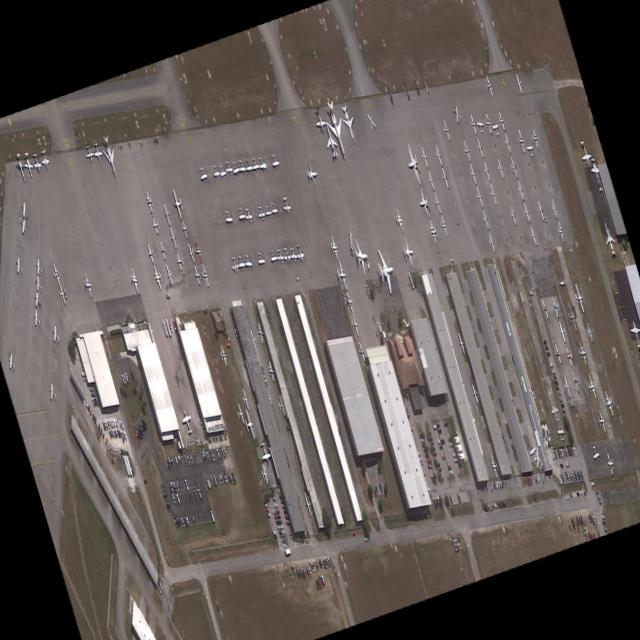large-vehicle: (164, 317, 171, 335), (407, 271, 414, 287), (162, 320, 168, 335), (349, 230, 353, 250), (284, 547, 291, 554)
plane: (320, 97, 352, 161), (374, 246, 400, 296), (401, 141, 424, 186), (98, 133, 121, 177), (339, 102, 360, 145), (351, 236, 372, 275), (320, 120, 341, 157), (600, 219, 619, 257), (414, 185, 432, 220), (400, 235, 417, 268), (241, 407, 257, 440), (577, 137, 594, 168), (170, 186, 185, 218), (13, 151, 28, 183), (571, 281, 586, 312), (334, 258, 349, 289), (565, 301, 579, 333), (20, 151, 36, 178), (305, 161, 321, 188), (588, 156, 603, 184), (258, 439, 273, 467), (179, 406, 194, 434), (627, 319, 640, 349), (313, 109, 328, 134), (603, 388, 616, 416), (585, 373, 598, 399), (576, 339, 589, 365), (128, 267, 141, 292), (327, 234, 340, 259), (82, 271, 94, 298), (427, 218, 439, 244), (595, 408, 607, 433), (152, 264, 164, 289), (393, 208, 405, 233), (91, 140, 104, 163), (534, 442, 543, 475), (604, 451, 616, 475), (483, 72, 494, 98), (515, 129, 527, 152), (431, 189, 442, 214), (529, 126, 540, 150), (199, 263, 210, 287), (303, 491, 314, 515), (50, 260, 61, 284), (144, 189, 155, 213), (31, 151, 43, 173), (38, 149, 51, 169), (83, 143, 96, 163), (482, 110, 493, 133), (259, 462, 270, 485), (255, 320, 266, 343), (461, 138, 472, 161), (473, 184, 484, 207), (489, 454, 500, 477), (248, 328, 259, 351), (294, 242, 306, 263), (239, 387, 250, 409), (266, 359, 277, 381), (528, 442, 539, 464), (440, 119, 451, 141), (487, 182, 498, 204), (557, 320, 568, 342), (456, 331, 467, 353), (280, 194, 292, 214), (218, 343, 228, 367), (549, 402, 561, 422), (192, 240, 203, 261), (509, 155, 519, 178), (186, 240, 196, 263), (165, 262, 175, 285), (440, 166, 450, 189), (350, 312, 360, 335), (229, 255, 241, 274), (367, 109, 376, 134), (555, 220, 565, 242), (528, 224, 538, 246), (162, 202, 172, 224), (192, 264, 203, 284), (235, 402, 245, 424), (57, 282, 67, 304), (146, 242, 156, 264), (419, 145, 429, 167), (433, 143, 443, 165), (468, 162, 478, 184), (438, 215, 448, 237), (562, 375, 572, 397), (564, 344, 574, 366), (571, 369, 581, 391), (344, 291, 355, 311), (552, 342, 562, 363), (502, 132, 512, 153), (496, 108, 506, 129), (584, 321, 594, 342), (180, 217, 190, 238), (168, 226, 178, 247), (175, 251, 185, 272), (468, 113, 478, 134), (551, 296, 561, 317), (470, 382, 480, 403), (281, 245, 292, 264), (540, 298, 550, 318), (508, 205, 518, 225), (356, 342, 366, 362), (515, 72, 524, 94), (549, 196, 558, 218), (276, 394, 285, 416), (487, 231, 496, 253), (495, 157, 504, 179), (590, 443, 600, 462), (158, 240, 168, 259), (536, 200, 545, 221), (21, 196, 28, 223), (481, 209, 490, 230), (482, 160, 491, 181), (475, 137, 484, 158), (426, 169, 435, 190), (223, 158, 234, 175), (19, 211, 26, 237), (52, 321, 59, 347), (35, 271, 42, 297), (522, 201, 531, 221), (198, 165, 208, 183), (516, 180, 525, 200), (243, 207, 254, 223), (34, 288, 41, 313), (151, 214, 160, 233), (270, 152, 280, 169), (268, 247, 278, 264), (237, 205, 247, 222), (244, 157, 254, 174), (250, 155, 260, 172), (454, 103, 461, 127), (49, 378, 55, 406), (16, 251, 22, 278), (36, 254, 42, 281), (256, 204, 266, 220), (236, 254, 246, 270), (256, 250, 266, 266), (275, 247, 285, 263), (556, 425, 566, 441), (237, 158, 247, 174), (257, 155, 267, 171), (8, 349, 14, 375), (218, 162, 227, 179), (231, 158, 240, 175), (243, 253, 253, 268), (288, 246, 298, 261), (223, 209, 233, 224), (33, 305, 39, 330), (491, 120, 500, 136), (211, 163, 220, 179), (263, 202, 272, 218), (475, 118, 485, 132), (525, 143, 535, 156), (270, 201, 278, 215)
small-vehicle: (209, 509, 215, 522), (376, 320, 382, 333), (365, 282, 370, 297), (184, 477, 189, 491), (531, 385, 536, 399), (455, 537, 460, 551), (210, 447, 215, 461), (437, 494, 442, 508), (174, 514, 179, 527), (142, 416, 147, 429), (139, 421, 144, 434), (172, 479, 177, 492), (572, 304, 577, 317), (453, 538, 458, 551), (301, 565, 306, 578), (231, 471, 236, 484), (221, 470, 226, 483), (432, 496, 437, 509), (141, 418, 146, 430), (124, 371, 129, 383), (171, 480, 176, 492), (120, 429, 125, 441), (570, 517, 575, 529), (172, 320, 177, 332), (312, 558, 317, 570), (319, 574, 324, 586), (174, 454, 179, 466), (183, 453, 188, 465), (217, 472, 222, 484), (308, 396, 313, 408), (285, 455, 290, 467), (201, 448, 205, 462), (129, 369, 134, 380), (171, 492, 176, 503), (185, 515, 190, 526), (419, 282, 424, 293), (571, 445, 576, 456), (573, 445, 578, 456), (307, 563, 312, 574), (314, 559, 319, 570), (319, 557, 324, 568), (320, 573, 325, 584), (214, 472, 219, 483), (424, 506, 429, 517), (123, 429, 127, 442), (560, 446, 564, 459), (583, 479, 587, 492), (121, 373, 126, 383), (169, 480, 174, 490), (114, 427, 119, 437), (176, 479, 181, 489), (574, 469, 579, 479), (222, 445, 227, 455), (419, 507, 424, 517), (120, 417, 124, 429), (590, 512, 594, 524), (197, 486, 201, 498), (166, 456, 170, 468), (176, 454, 180, 466), (199, 417, 203, 429), (450, 503, 454, 515), (497, 500, 502, 509), (511, 443, 516, 452), (159, 572, 163, 583), (102, 419, 106, 430), (123, 372, 127, 383), (167, 454, 171, 465), (140, 420, 144, 431), (115, 417, 119, 428), (138, 425, 142, 436), (136, 429, 140, 440), (137, 428, 141, 439), (188, 490, 192, 501), (193, 488, 197, 499), (566, 445, 570, 456), (568, 445, 572, 456), (558, 447, 562, 458), (556, 446, 560, 457), (576, 469, 580, 480), (579, 468, 583, 479), (296, 566, 300, 577), (305, 563, 309, 574), (322, 557, 326, 568), (327, 555, 331, 566), (168, 321, 172, 332), (227, 472, 231, 483), (223, 471, 227, 482), (268, 393, 272, 404), (318, 574, 321, 588), (103, 419, 107, 429), (108, 428, 112, 438), (126, 371, 130, 381), (173, 517, 177, 527), (176, 516, 180, 526), (177, 515, 181, 525), (180, 516, 184, 526), (183, 515, 187, 525), (191, 514, 195, 524), (176, 492, 180, 502), (175, 480, 179, 490), (107, 417, 111, 427), (111, 417, 115, 427), (113, 417, 117, 427), (118, 419, 122, 429), (121, 429, 125, 439), (118, 428, 122, 438), (116, 427, 120, 437), (91, 396, 95, 406), (92, 396, 96, 406), (93, 395, 97, 405), (95, 395, 99, 405), (135, 433, 139, 443), (584, 525, 588, 535), (579, 514, 583, 524), (578, 516, 582, 526), (576, 523, 580, 533), (571, 515, 575, 525), (573, 470, 577, 480), (578, 469, 582, 479), (553, 449, 557, 459), (311, 561, 315, 571), (289, 568, 293, 578), (298, 568, 302, 578), (308, 559, 312, 569), (318, 558, 322, 568), (194, 477, 198, 487), (169, 456, 173, 466), (178, 454, 182, 464), (189, 453, 193, 463), (206, 450, 210, 460), (216, 447, 220, 457), (221, 446, 225, 456), (229, 473, 233, 483), (378, 482, 382, 492), (435, 498, 439, 508), (375, 459, 379, 469), (316, 575, 319, 588), (106, 418, 110, 427), (139, 423, 142, 435), (109, 418, 113, 427), (113, 428, 117, 437), (504, 498, 508, 507), (583, 531, 587, 540), (483, 480, 486, 492), (563, 447, 567, 456), (564, 446, 568, 455), (566, 471, 570, 480), (571, 471, 575, 480), (551, 449, 555, 458), (291, 564, 295, 573), (210, 474, 214, 483), (186, 454, 190, 463), (219, 473, 223, 482), (367, 260, 370, 272), (415, 510, 419, 519), (436, 498, 440, 507), (449, 494, 453, 503), (457, 493, 461, 502), (234, 328, 238, 337), (165, 501, 170, 508), (453, 456, 458, 463), (266, 511, 271, 518), (427, 462, 432, 469), (89, 406, 92, 417), (115, 446, 118, 457), (529, 475, 532, 486), (204, 449, 207, 460), (111, 428, 115, 436), (487, 502, 491, 510), (500, 432, 504, 440), (483, 504, 487, 512), (568, 523, 572, 531), (588, 514, 592, 522), (529, 288, 533, 296), (113, 445, 116, 455), (118, 447, 121, 457), (80, 370, 85, 376), (527, 477, 530, 487), (437, 427, 442, 433), (429, 441, 434, 447), (432, 450, 437, 456), (449, 469, 454, 475), (432, 423, 437, 429), (451, 451, 456, 457), (570, 445, 573, 455), (565, 461, 570, 467), (562, 447, 565, 457), (590, 480, 595, 486), (565, 470, 568, 480), (568, 470, 571, 480), (324, 557, 327, 567), (325, 555, 328, 565), (171, 457, 174, 467), (424, 452, 429, 458), (276, 513, 281, 519), (351, 530, 356, 536), (284, 513, 289, 519), (493, 501, 497, 508), (438, 466, 442, 473), (443, 420, 447, 427), (602, 518, 606, 525), (418, 455, 422, 462), (109, 442, 112, 451), (111, 444, 114, 453), (110, 428, 113, 437), (169, 483, 172, 492), (576, 515, 579, 524), (593, 515, 596, 524), (561, 473, 564, 482), (570, 471, 573, 480), (301, 569, 304, 578), (224, 425, 227, 434), (542, 471, 544, 484), (447, 464, 452, 469), (440, 438, 445, 443), (561, 407, 566, 412), (598, 186, 603, 191), (428, 436, 433, 441), (363, 536, 368, 541), (273, 502, 278, 507), (276, 488, 281, 493), (87, 404, 90, 412), (82, 375, 86, 381), (305, 537, 309, 543), (537, 471, 539, 483), (481, 481, 483, 493), (436, 461, 440, 467), (436, 422, 440, 428), (406, 413, 410, 419), (449, 441, 453, 447), (555, 384, 559, 390), (559, 396, 563, 402), (203, 308, 207, 314), (579, 489, 583, 495), (418, 431, 422, 437), (272, 529, 276, 535), (417, 450, 421, 456), (430, 472, 434, 478), (272, 508, 276, 514), (272, 495, 276, 501), (275, 519, 279, 525), (283, 509, 287, 515), (280, 498, 284, 504), (286, 424, 290, 430), (226, 341, 230, 347), (92, 411, 94, 422), (525, 474, 527, 485), (479, 480, 481, 491), (427, 485, 430, 492), (94, 415, 96, 425), (96, 419, 98, 429), (98, 422, 100, 432), (105, 436, 107, 446), (120, 445, 124, 450), (163, 493, 167, 498), (89, 386, 93, 391), (143, 478, 147, 483), (504, 478, 506, 488), (498, 479, 500, 489), (493, 480, 495, 490), (431, 446, 435, 451), (437, 439, 441, 444), (491, 481, 493, 491), (450, 257, 454, 262), (557, 390, 561, 395), (554, 380, 558, 385), (547, 351, 551, 356), (603, 526, 607, 531), (600, 514, 604, 519), (598, 499, 602, 504), (569, 492, 573, 497), (427, 430, 431, 435), (283, 542, 287, 547), (281, 537, 285, 542), (420, 437, 424, 442), (426, 458, 430, 463), (423, 447, 427, 452), (421, 442, 425, 447), (265, 507, 269, 512), (278, 530, 282, 535), (266, 496, 270, 501), (276, 508, 280, 513), (274, 514, 278, 519), (278, 519, 282, 524), (276, 524, 280, 529), (282, 504, 286, 509), (85, 400, 87, 409), (100, 427, 102, 436), (102, 431, 104, 440), (108, 441, 110, 450), (91, 391, 94, 397), (502, 501, 505, 507), (535, 473, 537, 482), (486, 482, 488, 491), (560, 462, 563, 468), (410, 425, 413, 431), (422, 470, 425, 476), (286, 518, 289, 524), (279, 493, 282, 499), (551, 368, 555, 372), (549, 362, 553, 366), (544, 345, 548, 349), (439, 444, 442, 449), (561, 402, 564, 407), (553, 374, 556, 379), (597, 494, 600, 499), (595, 488, 598, 493), (583, 490, 586, 495), (576, 491, 579, 496), (264, 502, 267, 507), (280, 524, 283, 529), (442, 456, 445, 460), (448, 437, 451, 441), (543, 340, 546, 344), (496, 478, 497, 489), (500, 480, 501, 490), (502, 479, 503, 488)
